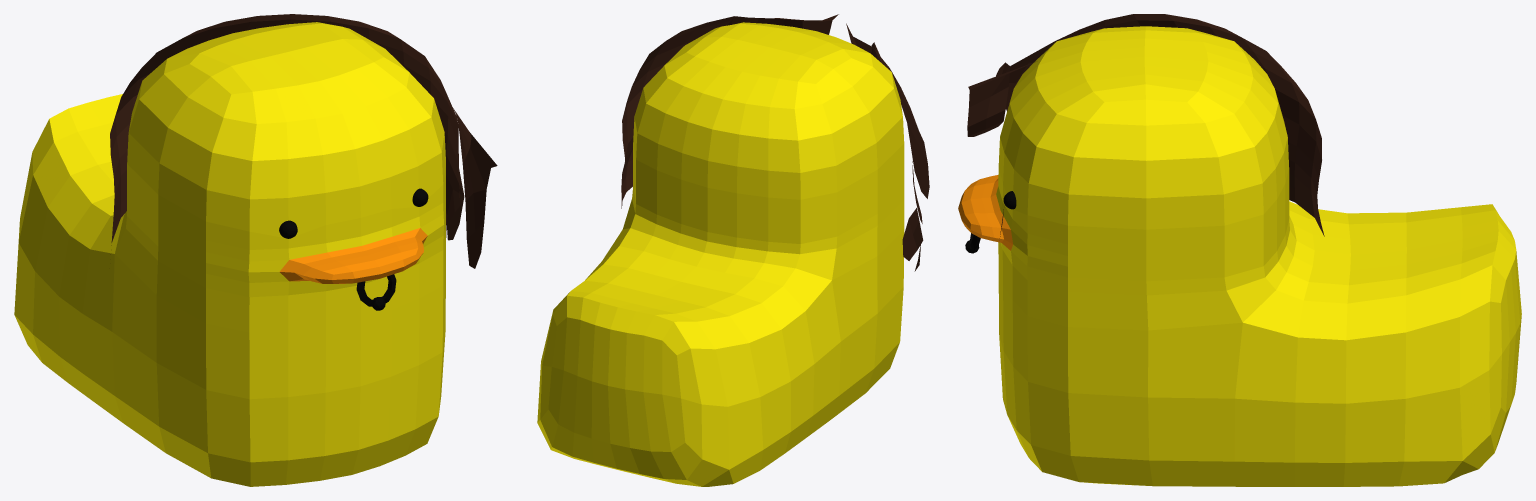
File: Duck_Me.glb
3 renders of one model, left to right at view 1: azimuth 30°, elevation 25°; view 2: azimuth 150°, elevation 25°; view 3: azimuth 270°, elevation 25°, orthographic. The views are drawn at different scales.
Visible parts, largest first — view 1: Duck, Hair, NoseRing; view 2: Duck, Hair; view 3: Duck, Hair.
Part boxes in pixels (x1,y1,x2,y2): Duck: (14,22,445,486); Hair: (110,14,497,268); NoseRing: (356,274,396,310); Duck: (537,22,904,486); Hair: (621,14,929,271); Duck: (958,26,1521,486); Hair: (967,14,1324,238).
Size of the model in its own units: 2.62 by 2.98 by 3.94.
